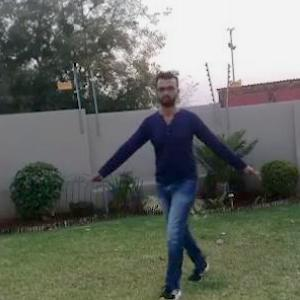land: (96, 69, 258, 289)
